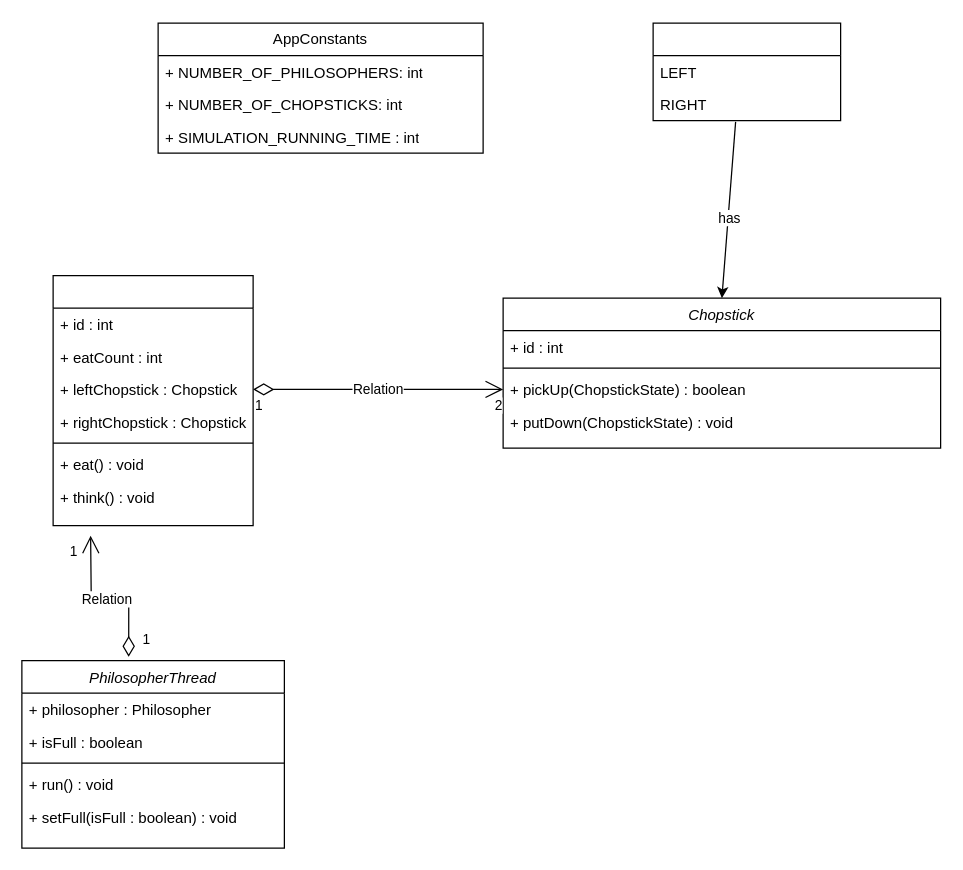
Some shapes in this 963 by 870 pixel diagram are drawn without their labels. The shapes that lost their labels are listed below. From the top down, each one's box as (x1, y1, x2, y2) in pixels, then its label:
(652, 22, 841, 121): <<enumeration>> ChopstickState
(52, 274, 253, 526): Philosopher
